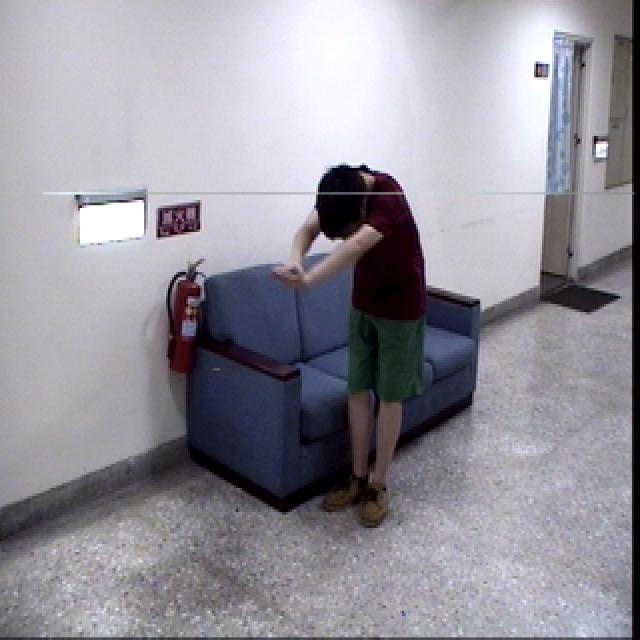bend: (268, 159, 436, 539)
